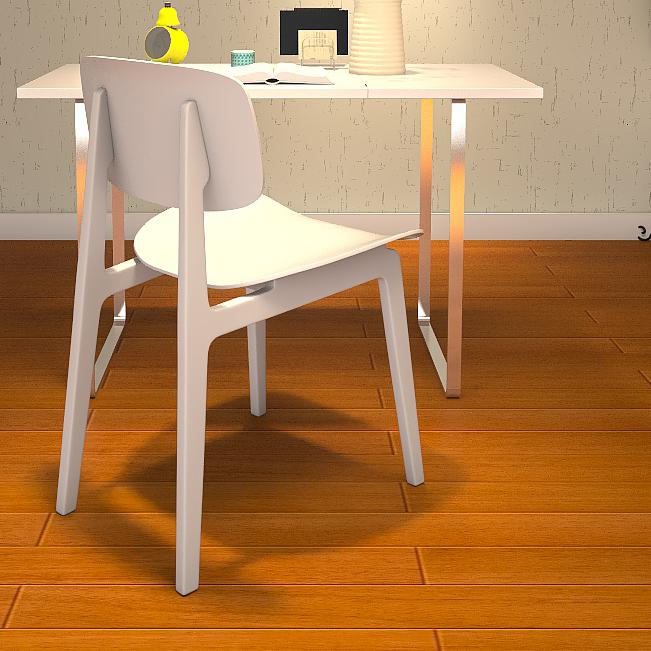table: (15, 61, 542, 402)
